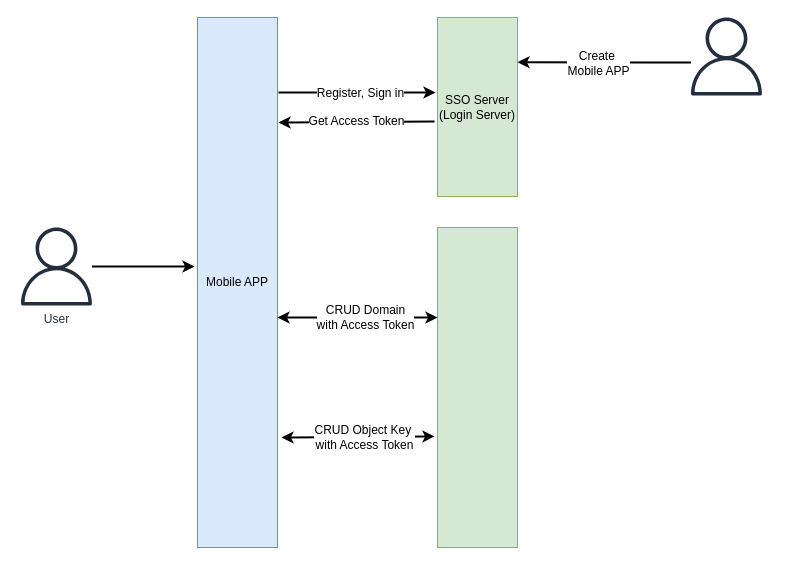
Some shapes in this 812 by 565 pixel diagram are drawn without their labels. The shapes that lost their labels are listed below. From the top down, each one's box as (x1, y1, x2, y2) in pixels, then its label:
(687, 17, 765, 95): SSO Server Administrator
(436, 226, 518, 548): Object Storage API Server
